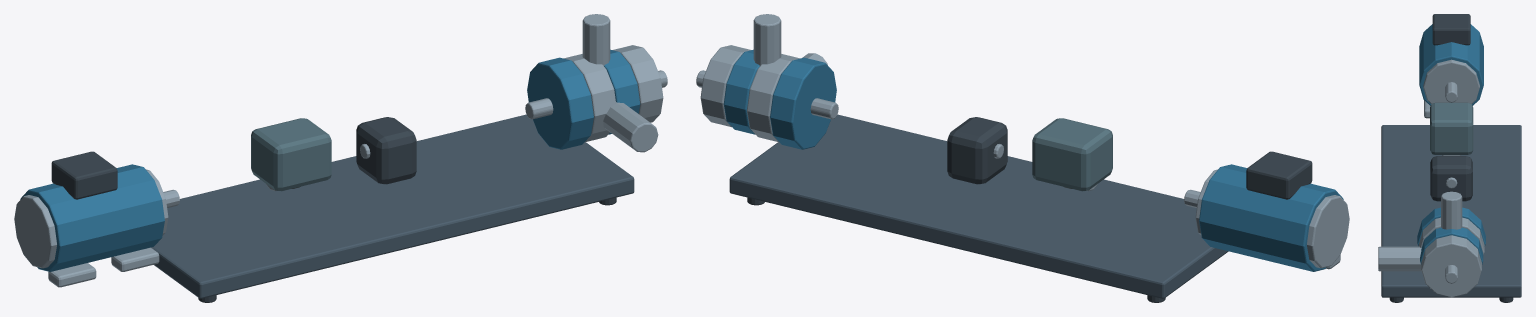
Rendered from feed-water-pump-lod2.glb.
3 renders of one model, left to right at view 1: azimuth 30°, elevation 25°; view 2: azimuth 150°, elevation 25°; view 3: azimuth 270°, elevation 25°, orthographic. The views are drawn at different scales.
Parts seen in each view (by area): view 1: drive_base, motor, coupling_guard, feed_water_stage_1, pump_drive_bearing_housing, motor_terminal_box, motor_rear_endcap, feed_water_stage_4, feed_water_stage_2, feed_water_inlet, feed_water_outlet, feed_water_stage_3 (+3 smaller); view 2: drive_base, motor, coupling_guard, feed_water_stage_1, pump_drive_bearing_housing, motor_terminal_box, motor_rear_endcap, feed_water_stage_2, feed_water_stage_4, feed_water_stage_3, feed_water_outlet, feed_water_shaft; view 3: drive_base, feed_water_stage_4, coupling_guard, motor, motor_front_endcap, pump_drive_bearing_housing, motor_terminal_box, feed_water_inlet, feed_water_outlet, feed_water_stage_3, feed_water_stage_1, feed_water_stage_2 (+2 smaller).
Part boxes in pixels (x1,y1,x2,y2): drive_base: [151, 114, 634, 298]; motor: [20, 164, 164, 271]; coupling_guard: [251, 118, 331, 191]; feed_water_stage_1: [527, 57, 593, 149]; pump_drive_bearing_housing: [356, 117, 416, 184]; motor_terminal_box: [51, 151, 117, 199]; motor_rear_endcap: [14, 195, 56, 268]; feed_water_stage_4: [612, 45, 663, 122]; feed_water_stage_2: [563, 54, 615, 142]; feed_water_inlet: [603, 102, 658, 152]; feed_water_outlet: [582, 14, 610, 65]; feed_water_stage_3: [604, 49, 640, 134]; drive_base: [729, 114, 1228, 298]; motor: [1199, 164, 1343, 271]; coupling_guard: [1032, 118, 1112, 191]; feed_water_stage_1: [770, 57, 836, 149]; pump_drive_bearing_housing: [947, 117, 1007, 184]; motor_terminal_box: [1246, 151, 1312, 199]; motor_rear_endcap: [1307, 195, 1349, 268]; feed_water_stage_2: [747, 54, 800, 142]; feed_water_stage_4: [700, 45, 751, 127]; feed_water_stage_3: [723, 49, 759, 134]; feed_water_outlet: [753, 14, 781, 65]; feed_water_shaft: [696, 70, 838, 119]; drive_base: [1381, 125, 1521, 297]; feed_water_stage_4: [1421, 235, 1481, 297]; coupling_guard: [1430, 102, 1473, 154]; motor: [1419, 24, 1483, 105]; motor_front_endcap: [1423, 59, 1479, 103]; pump_drive_bearing_housing: [1430, 156, 1472, 201]; motor_terminal_box: [1432, 14, 1470, 45]; feed_water_inlet: [1378, 246, 1421, 271]; feed_water_outlet: [1441, 191, 1462, 229]; feed_water_stage_3: [1420, 227, 1483, 264]; feed_water_stage_1: [1417, 207, 1485, 246]; feed_water_stage_2: [1418, 217, 1484, 255].
Size of the model in its own units: 12.63 by 2.87 by 3.27.
